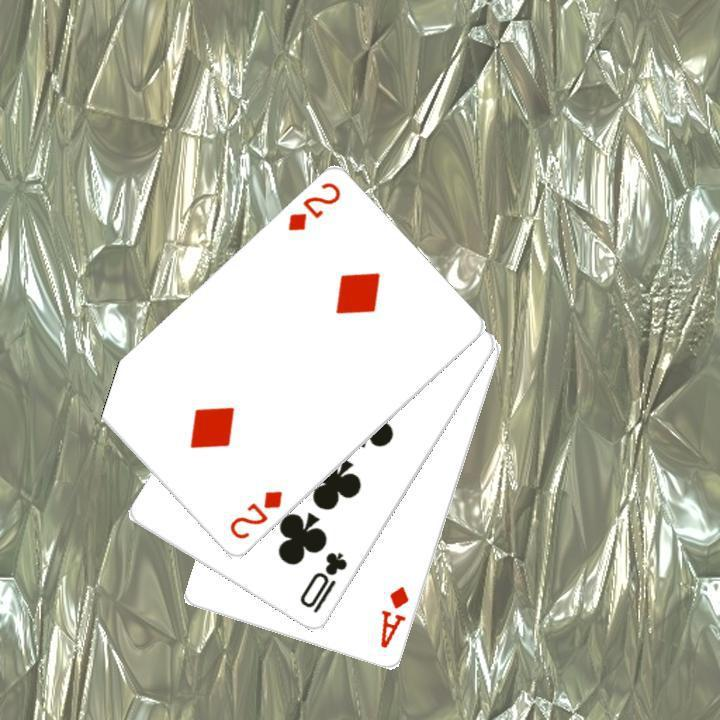10: (295, 548, 350, 616)
2: (225, 486, 285, 542), (283, 178, 343, 234)
A: (376, 582, 411, 651)
